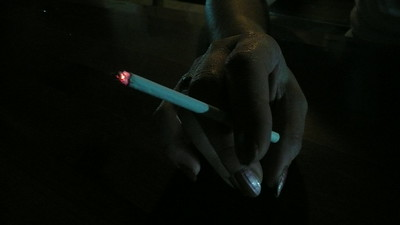cigarette: (112, 65, 283, 145)
